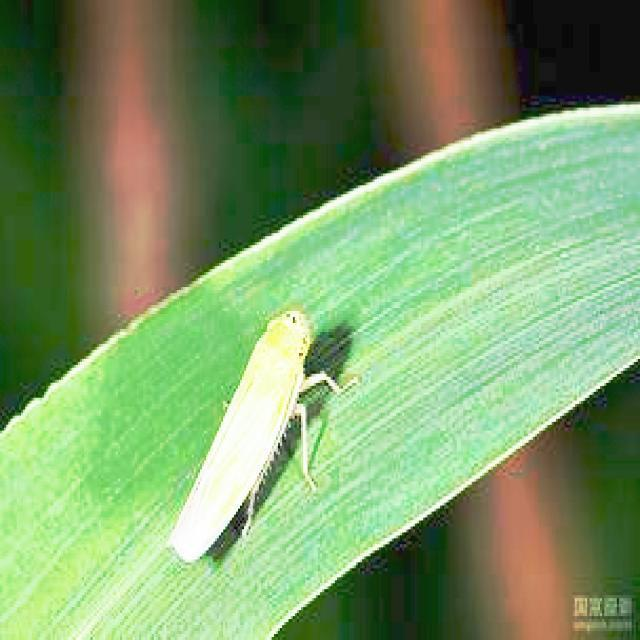green-leafhopper: (169, 308, 341, 556)
